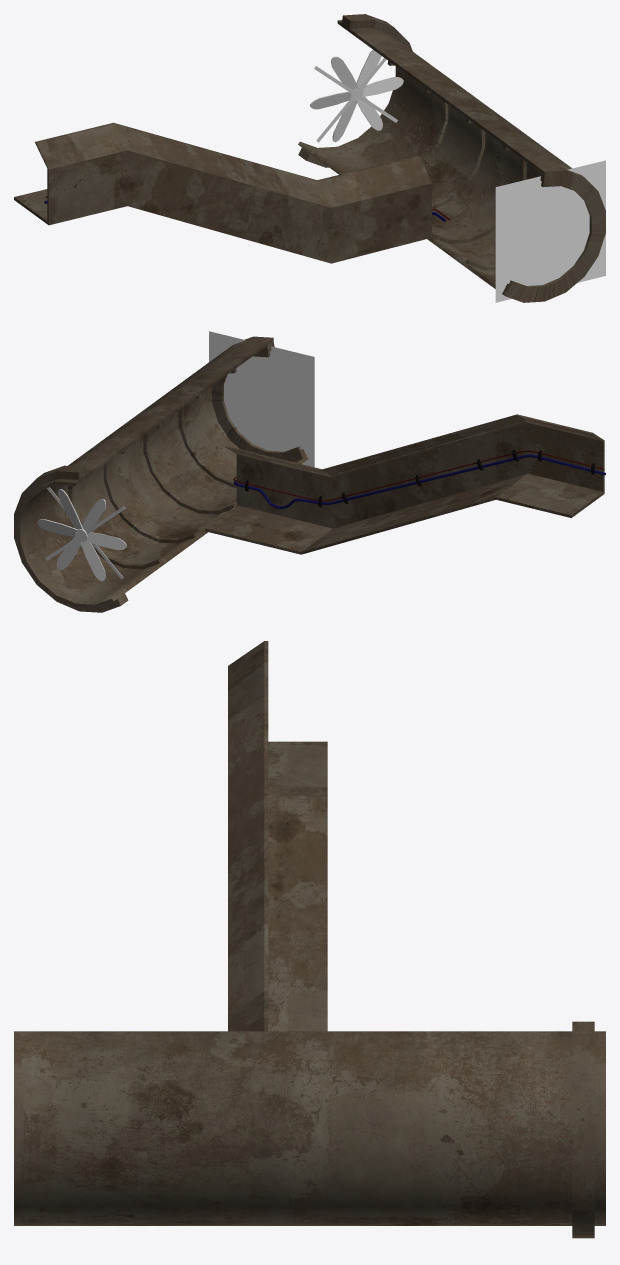
Rendered from Airduct_FINISHED.fbx.
The picture shows the model from 3 angles, top to bottom: view 1: azimuth 30°, elevation 25°; view 2: azimuth 150°, elevation 25°; view 3: azimuth 270°, elevation 25°; orthographic projection. The views are drawn at different scales.
Parts seen in each view (by area): view 1: Rectangle tunnel, Sewer Tunnel, Grate, Fan, Back Asset01; view 2: Sewer Tunnel, Rectangle tunnel, Grate, Fan, WireBottom, WireTop; view 3: Sewer Tunnel, Rectangle tunnel.
Part boxes in pixels (x1=…): Rectangle tunnel: x1=14, y1=122, x2=431, y2=263; Sewer Tunnel: x1=298, y1=14, x2=605, y2=302; Grate: x1=495, y1=160, x2=605, y2=302; Fan: x1=310, y1=49, x2=403, y2=142; Back Asset01: x1=314, y1=66, x2=397, y2=122; Sewer Tunnel: x1=14, y1=336, x2=308, y2=612; Rectangle tunnel: x1=205, y1=414, x2=604, y2=554; Grate: x1=209, y1=331, x2=314, y2=467; Fan: x1=37, y1=489, x2=126, y2=581; WireBottom: x1=233, y1=454, x2=605, y2=508; WireTop: x1=233, y1=450, x2=604, y2=501; Sewer Tunnel: x1=14, y1=1021, x2=605, y2=1238; Rectangle tunnel: x1=228, y1=641, x2=327, y2=1031.
Size of the model in its own units: 133 by 53.2 by 97.37.
5 materials, 1 textured.
